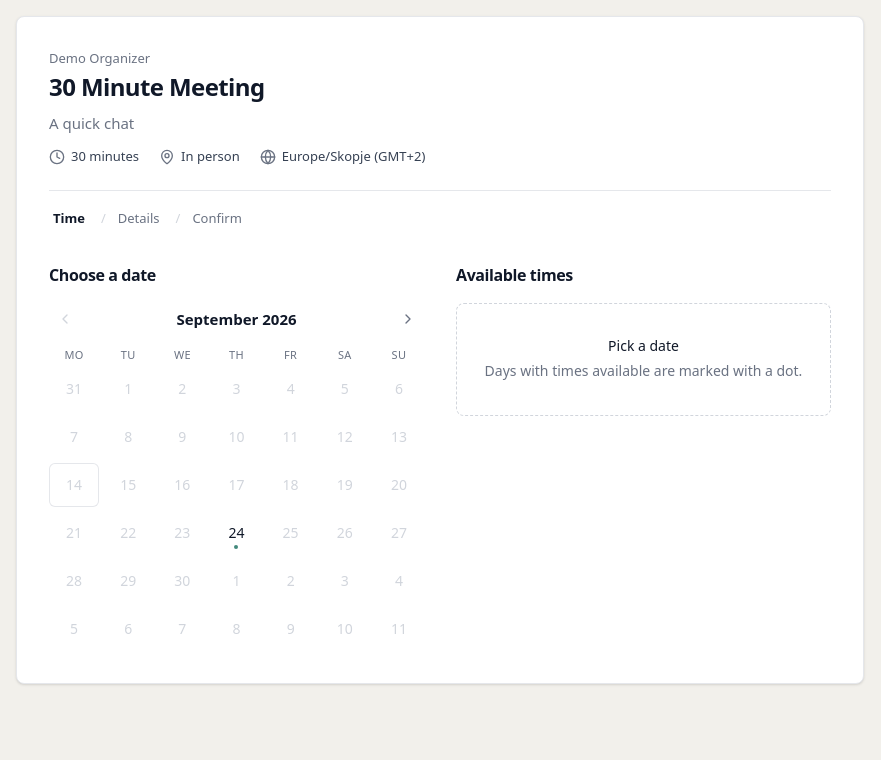
BookingPage — choosing a slot › lets the guest change the slot from a later step without walking backwards
Step 1. Click the cell "24" → click(236, 533), box [211,511,262,555]
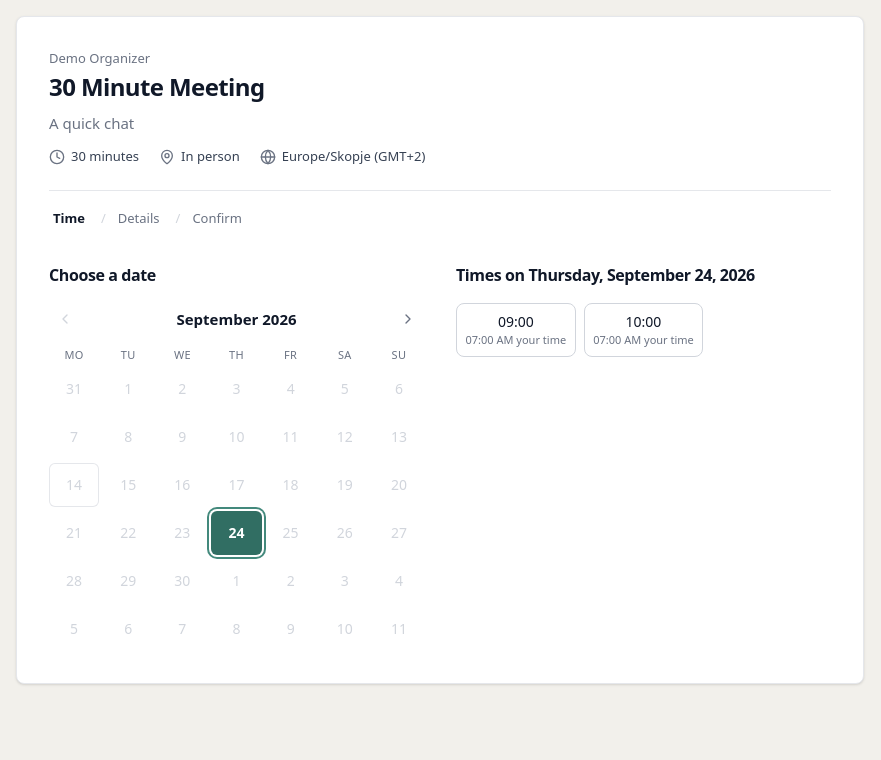
Step 2. Click the button "09:00 07:00 AM your time" → click(516, 330), box [456,303,576,357]
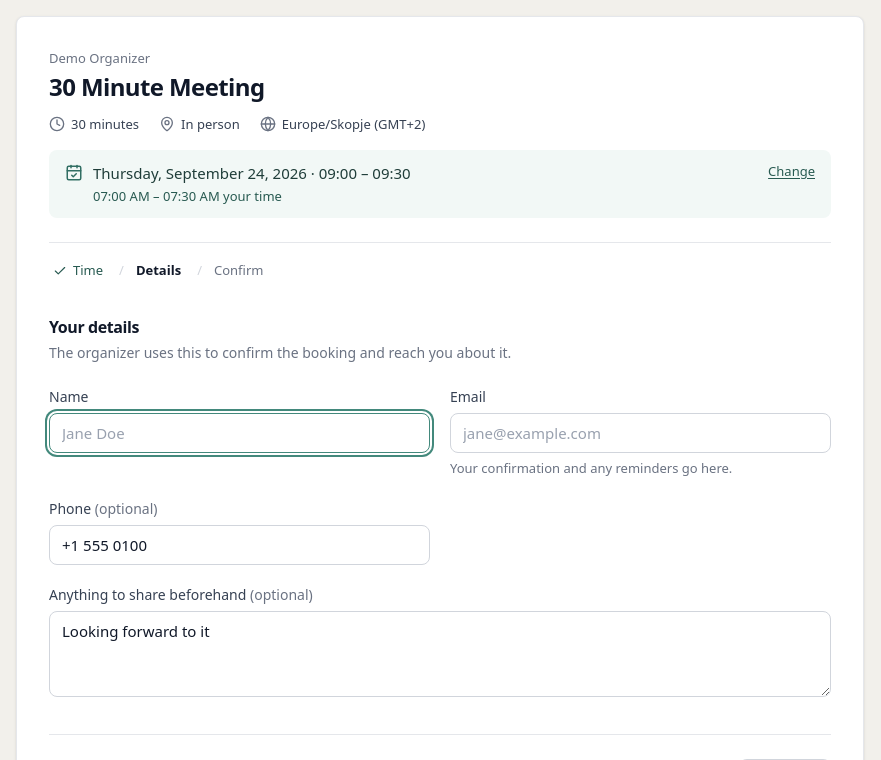
Expected: the field labelled "Name" is shown, [49,412,430,453]
Step 3. Click the button with aria-label "Change the selected date and time" → click(792, 172), box [768,162,815,182]
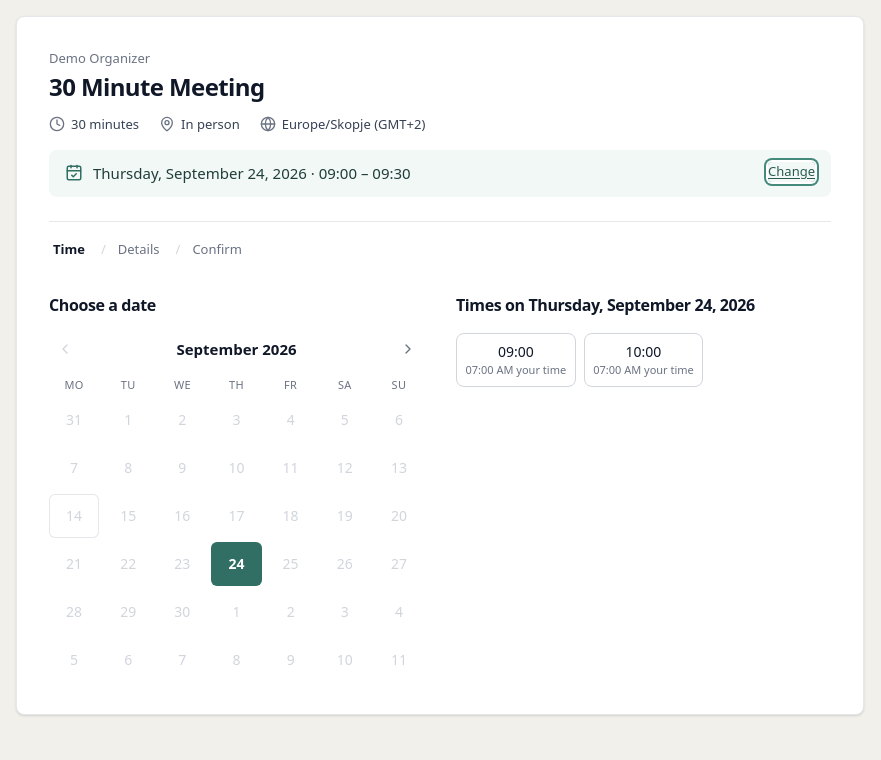
Expected: the table named "choose a date" is shown, [49,398,424,682]
